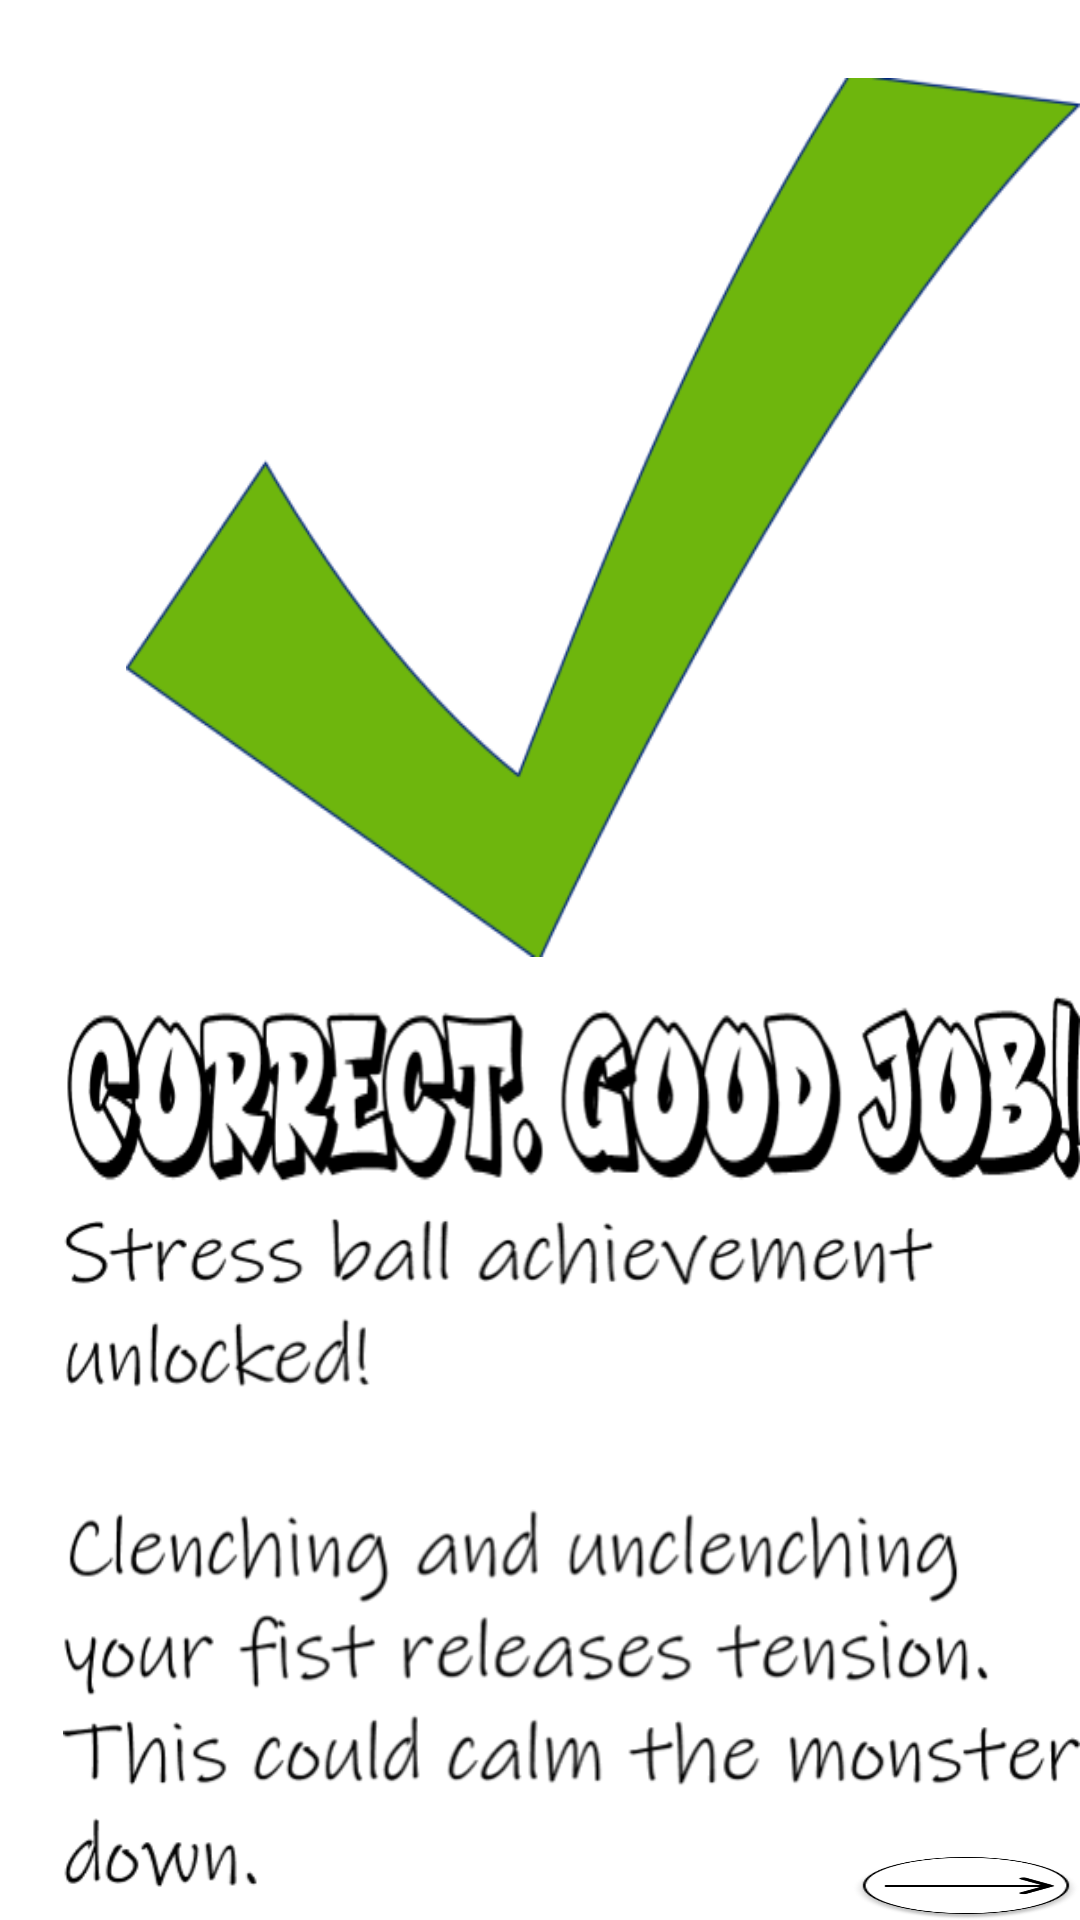

Where icons sit on this 1080 x 1920 app screen, as (x1, y1, x2, y2):
arrow: (862, 1857, 1070, 1917)
